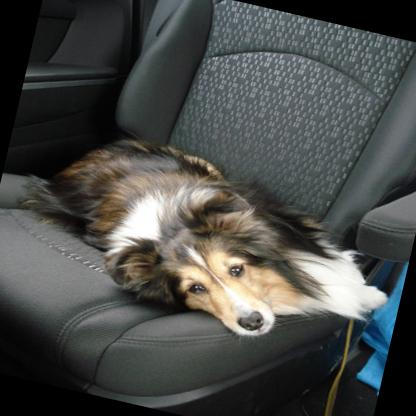Shetland_sheepdog: (0, 112, 412, 366)
